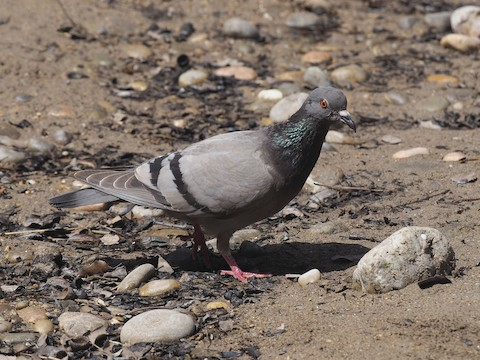pigeon: (47, 85, 362, 285)
